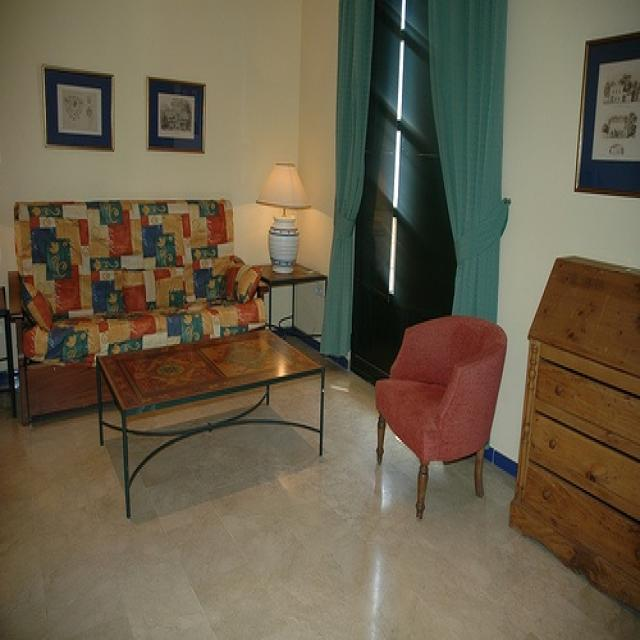chair: (371, 311, 508, 523)
sofa: (5, 196, 268, 427)
